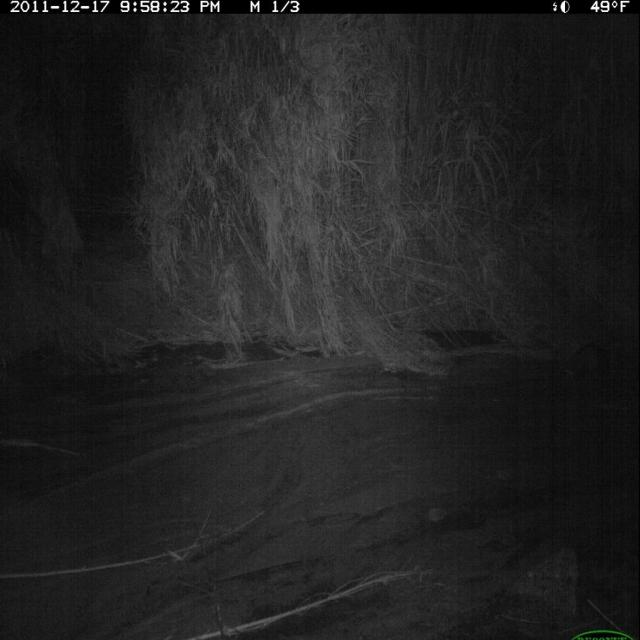opossum: (564, 338, 620, 383)
